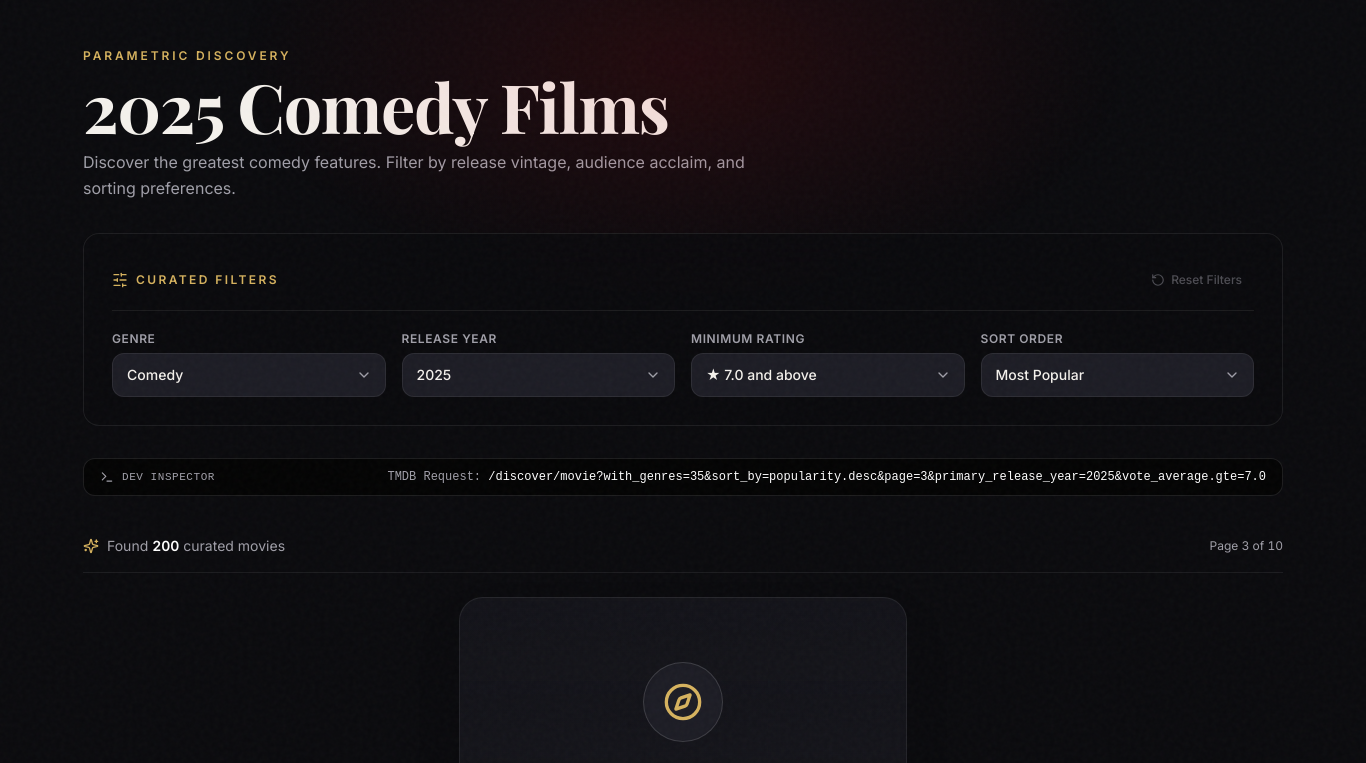
Test: Discover Page › changing filter resets page to 1
Select "Action" in the dropdown labelled "Genre" at (249, 375), box top-left (112, 353), bottom-right (386, 397)
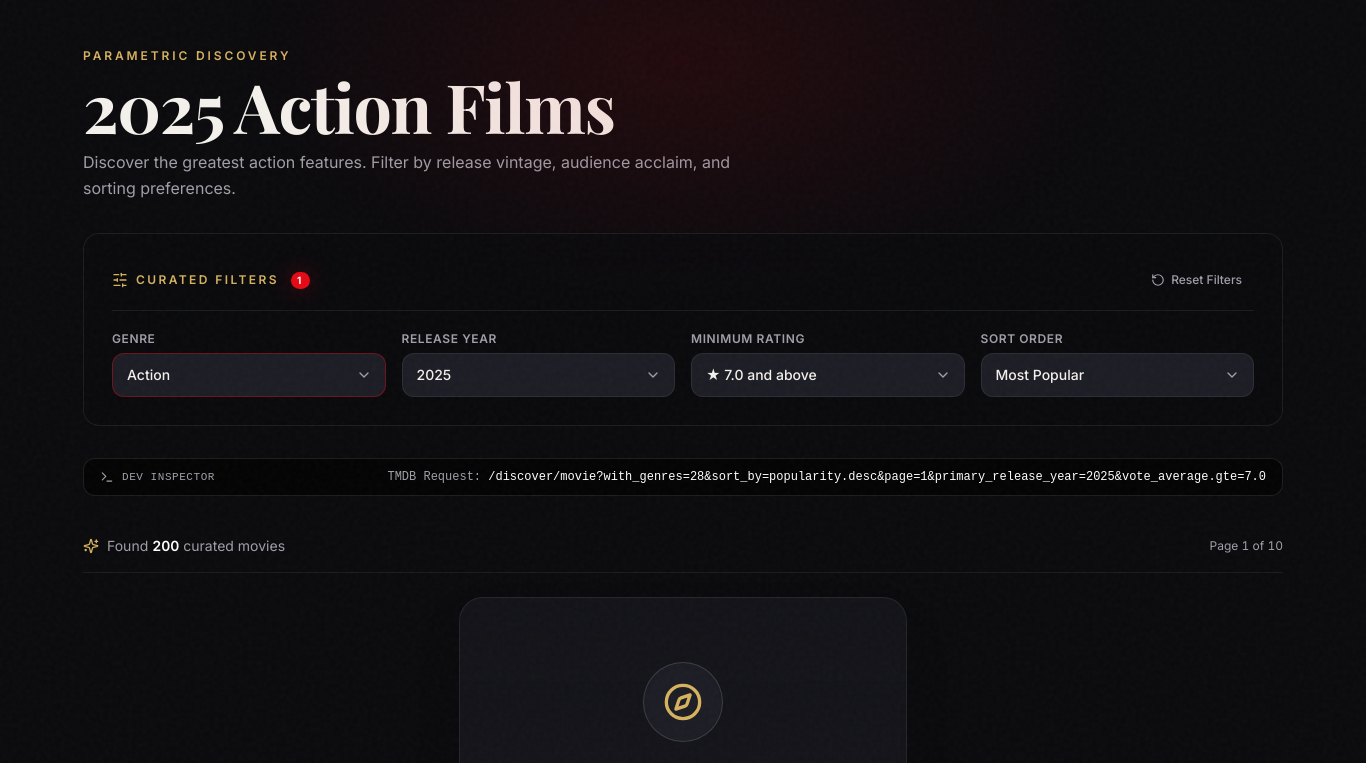
Now the heading "2025 Action Films" is shown, box top-left (83, 60), bottom-right (614, 151)
